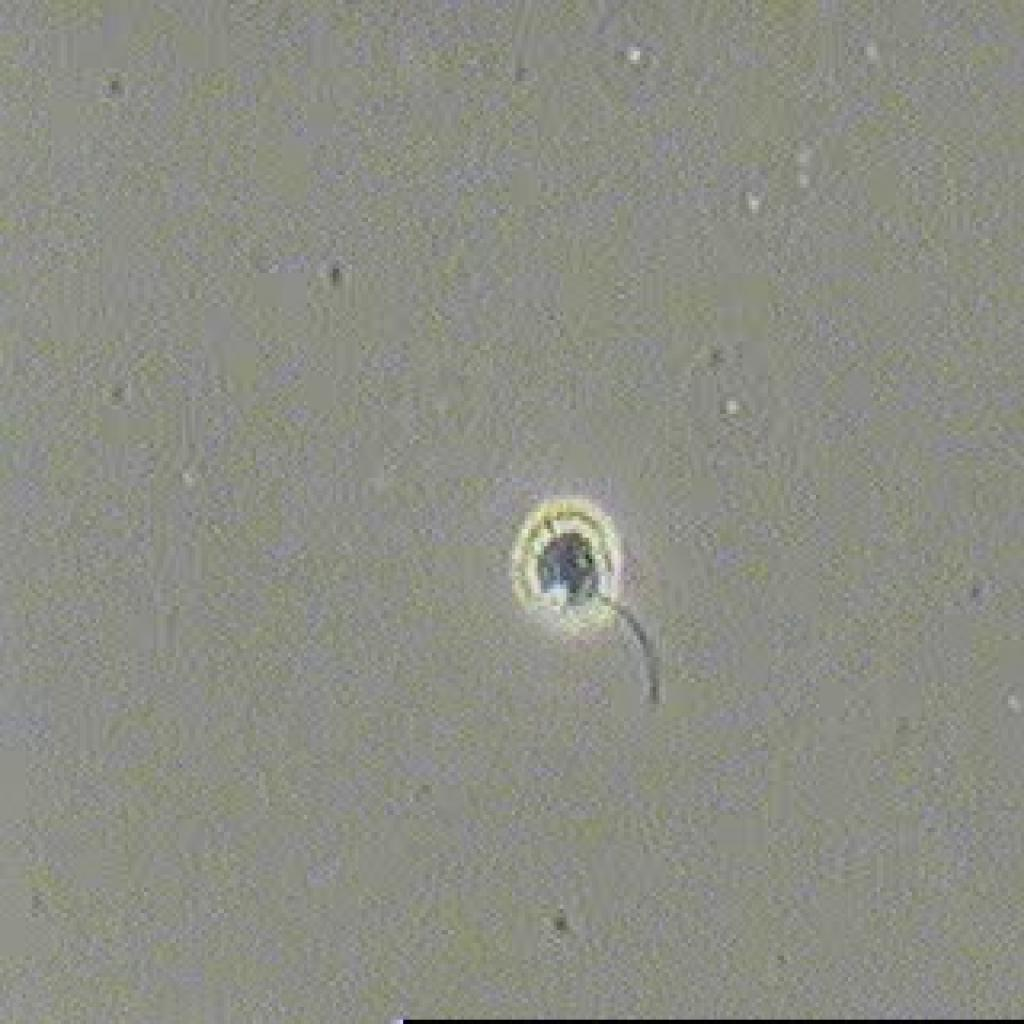Flagellates: (480, 482, 691, 717)
